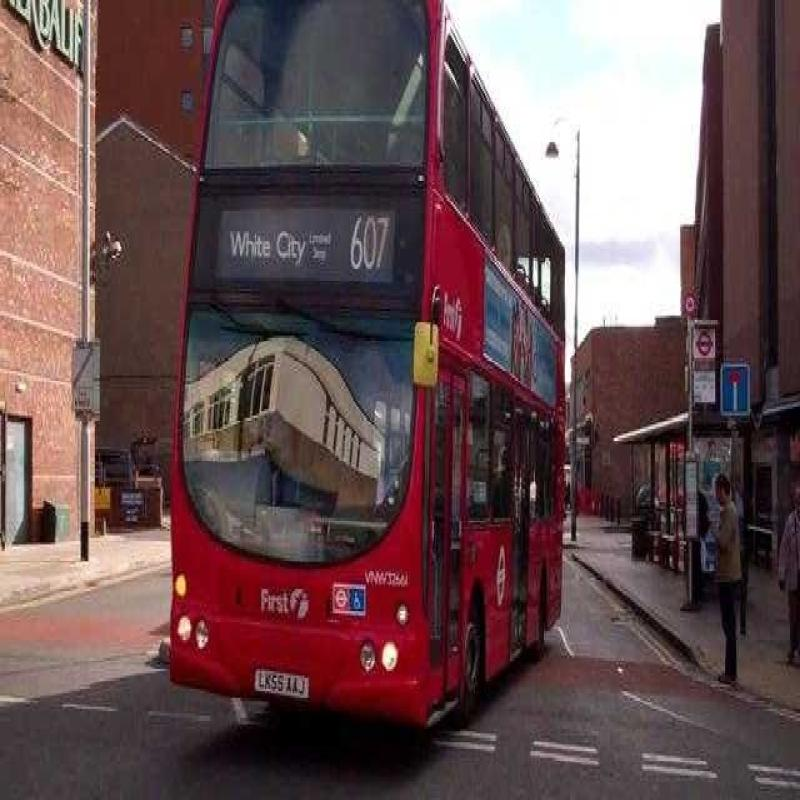bus: (150, 2, 596, 753)
